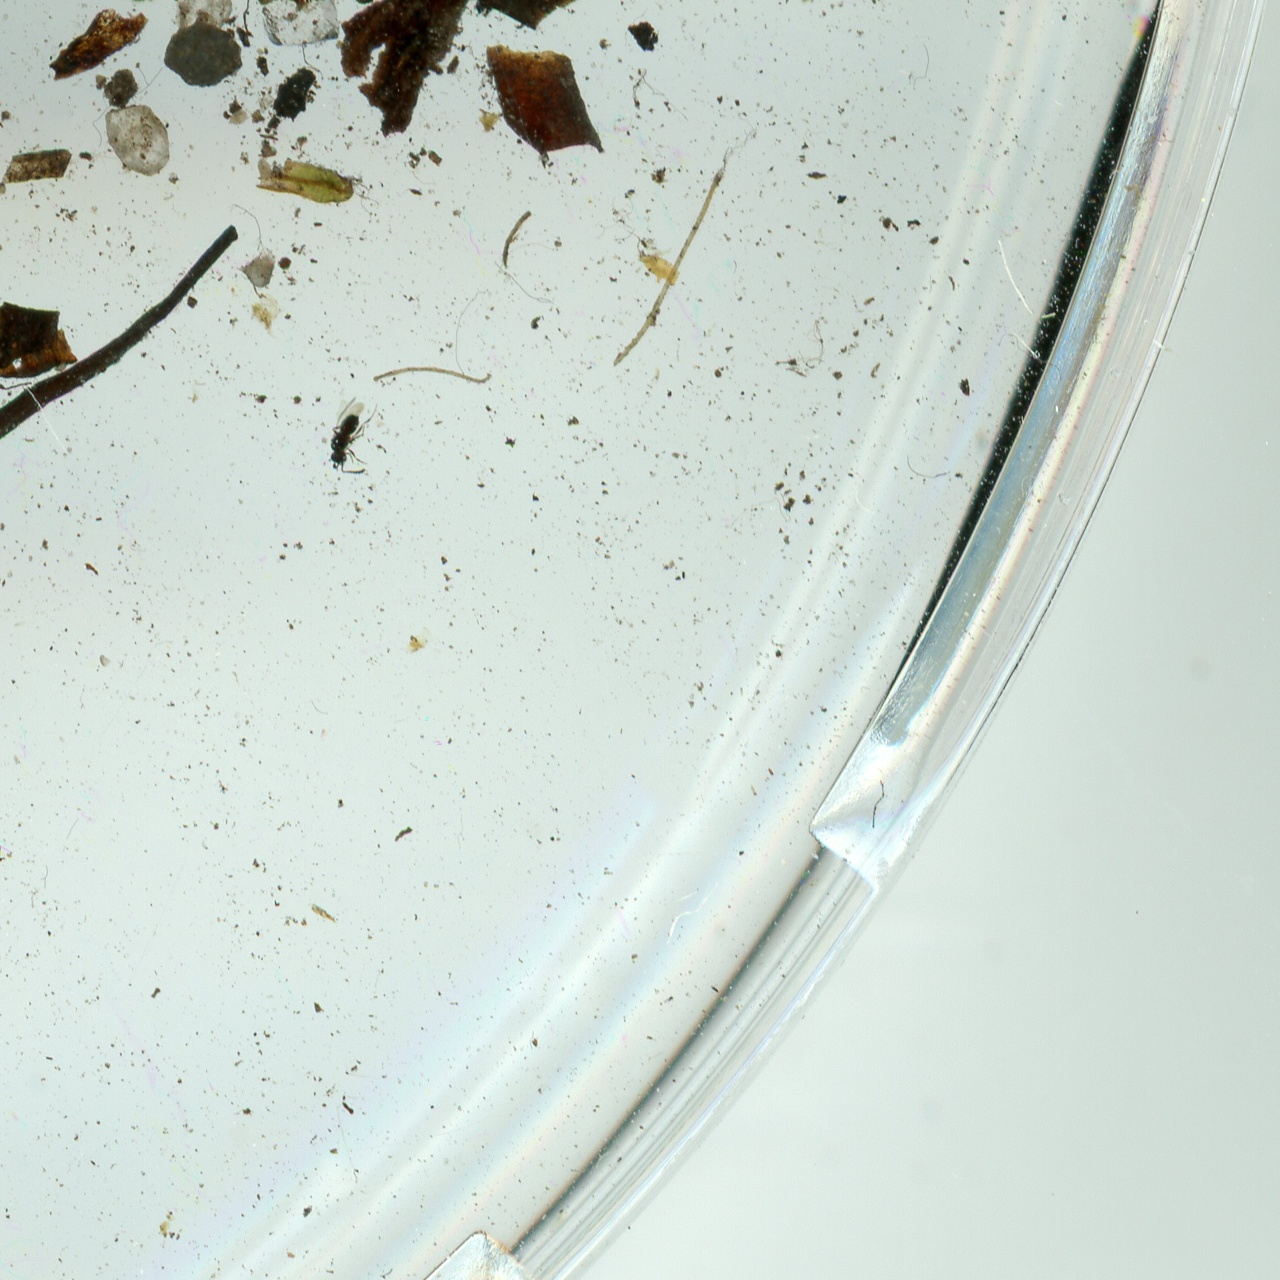arthropod: (327, 396, 377, 475)
